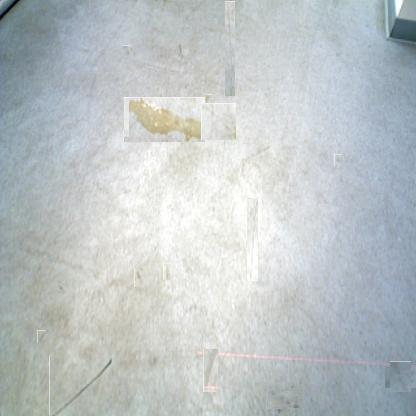liquid: (124, 97, 206, 142), (204, 94, 213, 103)
mark: (49, 355, 112, 415), (201, 103, 236, 140), (246, 198, 258, 282), (225, 1, 235, 96), (272, 386, 299, 413), (387, 364, 414, 390), (203, 348, 218, 392), (244, 143, 273, 159), (185, 0, 205, 20), (134, 267, 143, 287), (176, 42, 184, 60), (163, 263, 170, 280), (37, 330, 46, 343), (123, 46, 132, 56), (334, 154, 341, 165), (57, 285, 66, 293)
